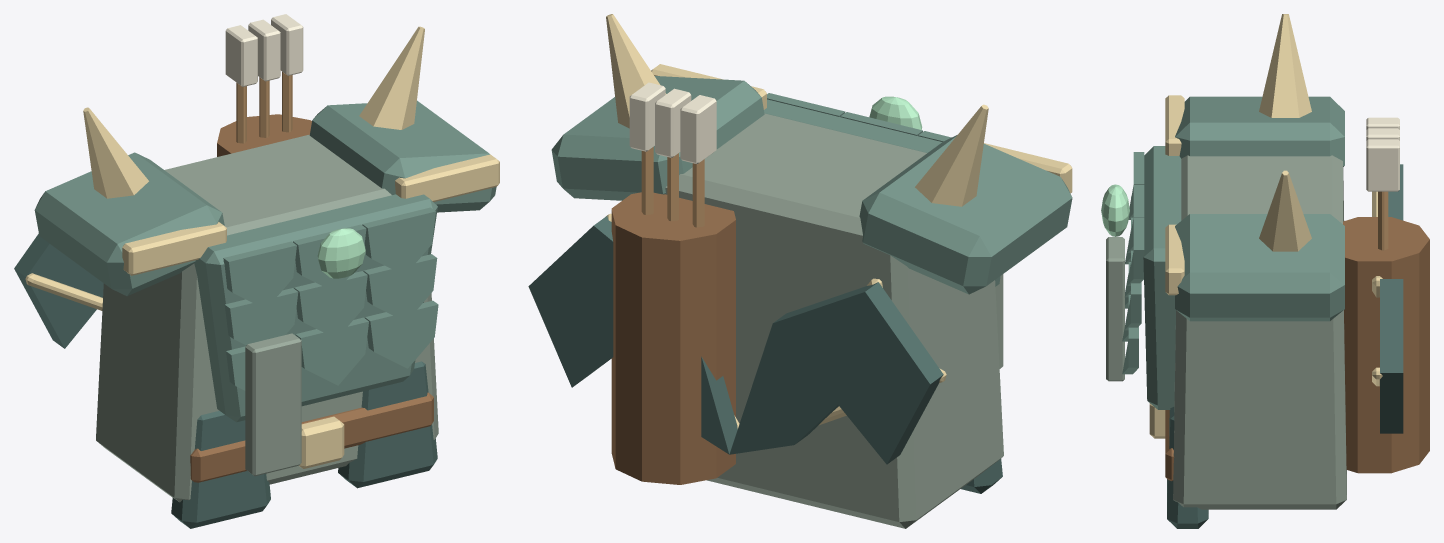
File: Dragon_Archer_Torso.fbx
3 views of the same model, side by side, from view 1: azimuth 30°, elevation 25°; view 2: azimuth 150°, elevation 25°; view 3: azimuth 270°, elevation 25° (orthographic). The views are drawn at different scales.
Parts seen in each view (by area): view 1: Dragon_Archer_Torso; view 2: Dragon_Archer_Torso; view 3: Dragon_Archer_Torso.
Boxes of the visible parts, left/top/right/bottom form: Dragon_Archer_Torso: left=14, top=14, right=499, bottom=528; Dragon_Archer_Torso: left=528, top=14, right=1072, bottom=528; Dragon_Archer_Torso: left=1101, top=14, right=1429, bottom=528.
Size of the model in its own units: 104 by 98.7 by 77.41.
